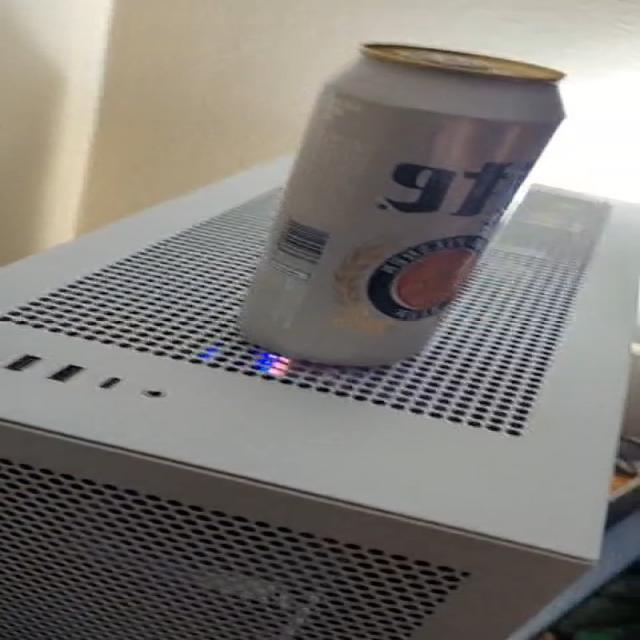metal: (240, 44, 564, 364)
